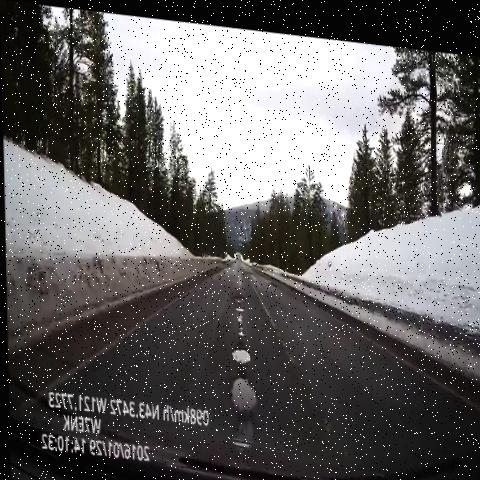pothole: (229, 365, 256, 420), (229, 301, 250, 339), (232, 337, 253, 368), (231, 282, 250, 304)
